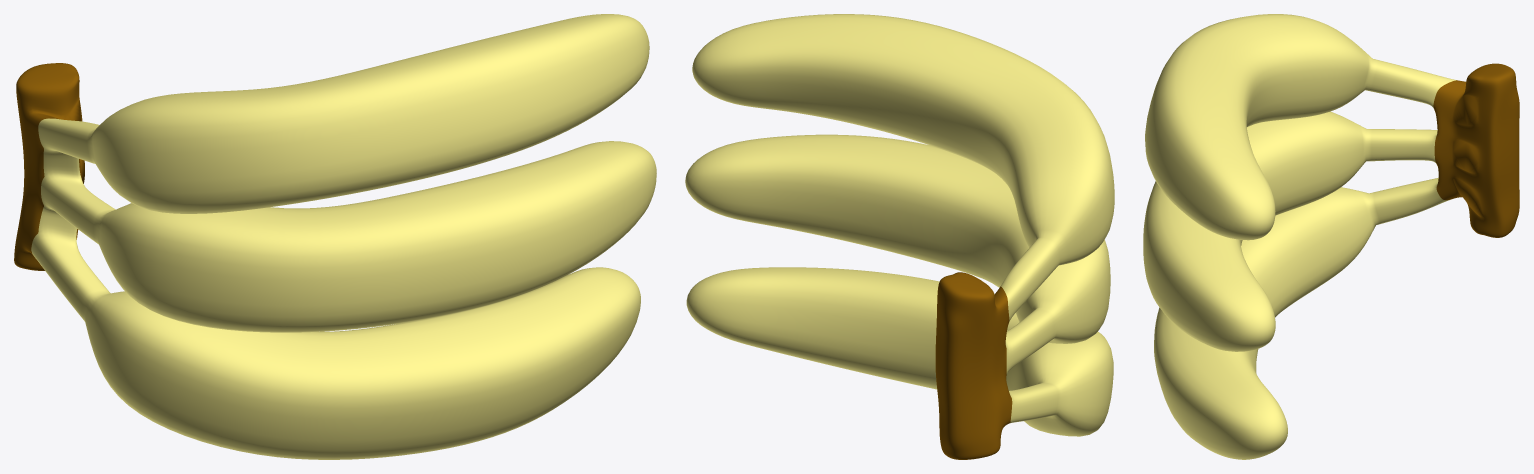
Rendered from banana.fbx.
3 renders of one model, left to right at view 1: azimuth 30°, elevation 25°; view 2: azimuth 150°, elevation 25°; view 3: azimuth 270°, elevation 25°, orthographic. The views are drawn at different scales.
Visible parts, largest first — view 1: Banana, Banana_2; view 2: Banana, Banana_2; view 3: Banana, Banana_2.
Part boxes in pixels (<box>): Banana: <box>31,14,656,459</box>; Banana_2: <box>14,63,84,270</box>; Banana: <box>685,14,1114,436</box>; Banana_2: <box>935,272,1012,459</box>; Banana: <box>1143,14,1456,459</box>; Banana_2: <box>1433,63,1519,237</box>.
Bounding box in the file's own units: 66.57 × 51.87 × 48.93.
